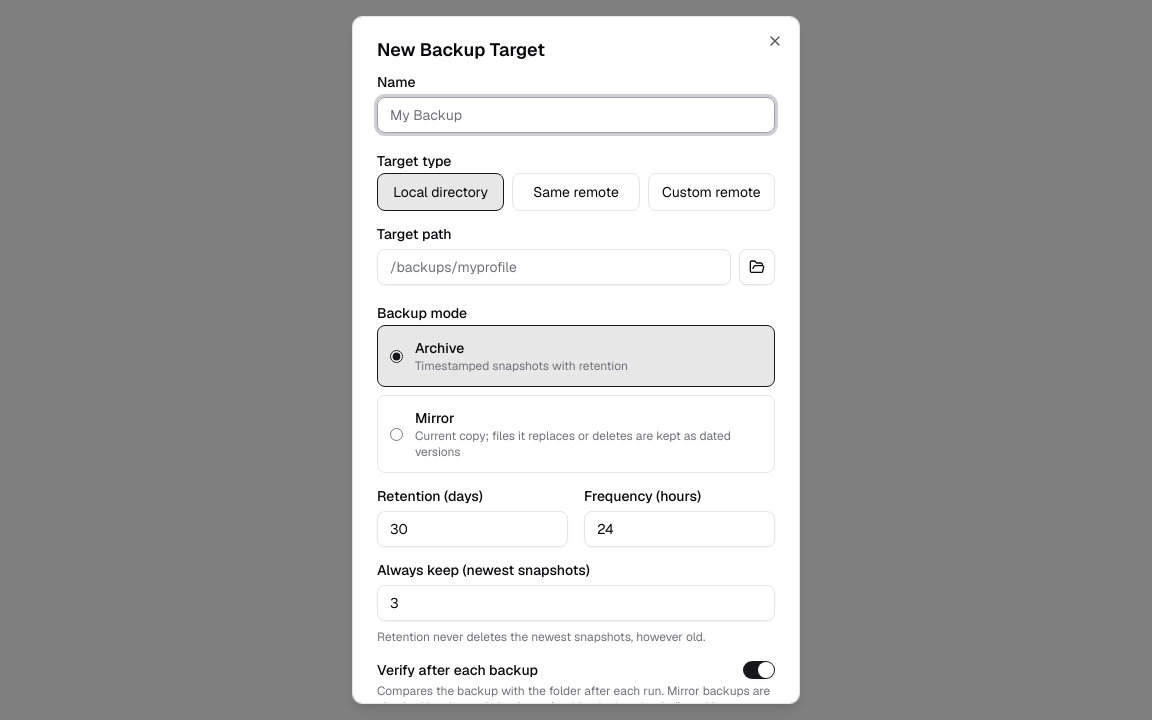
BackupTargetForm folder browser › custom remote targets browse the chosen remote and fill the picked folder
Step 1. Click the radio button labelled "Custom remote" → (711, 192), box [648,173,775,211]
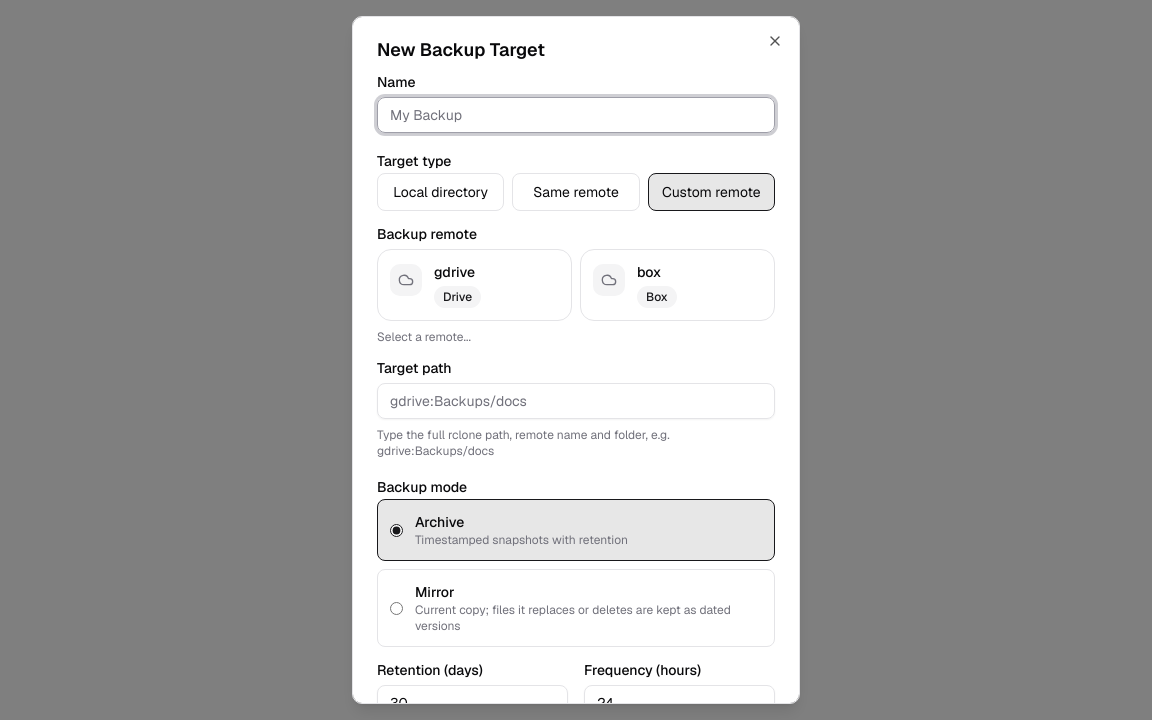
Step 2. Click the button "gdrive drive" → (474, 285), box [377,249,572,321]
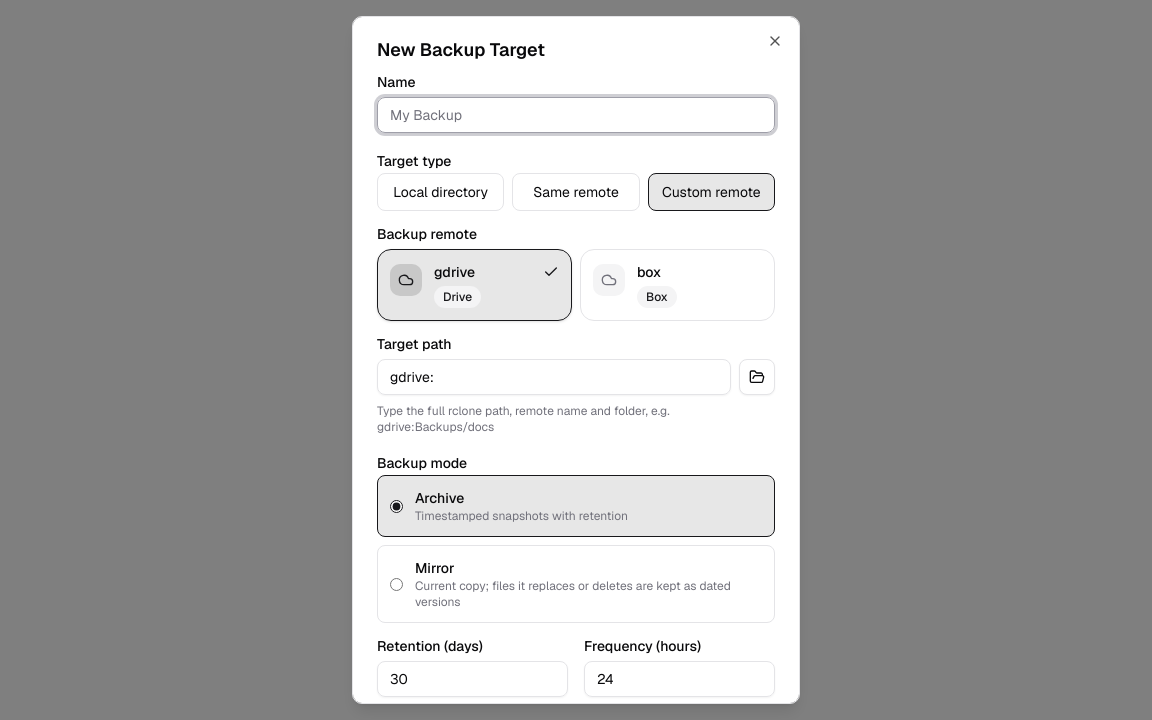
Step 3. Click the button named "Browse for the target folder" → (757, 377), box [739,359,775,395]
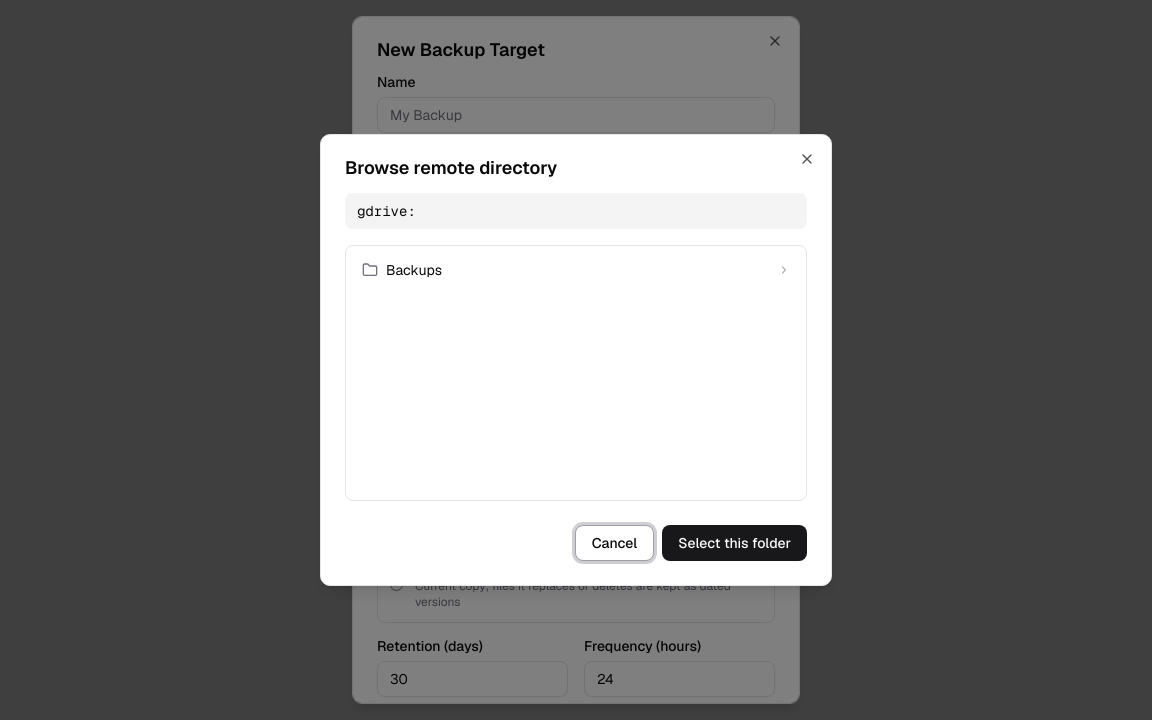
Step 4. Click the button "Backups" → (414, 270), box [354,254,798,286]
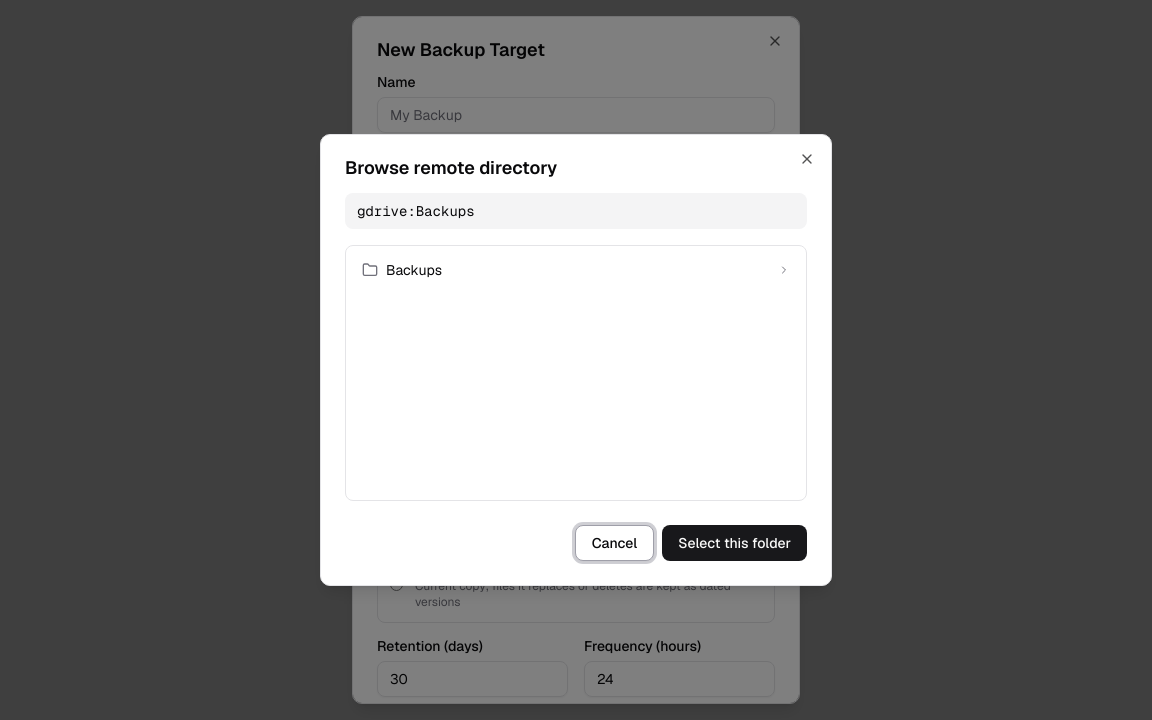
Step 5. Click the button "Select this folder" → (735, 543), box [662,525,807,561]
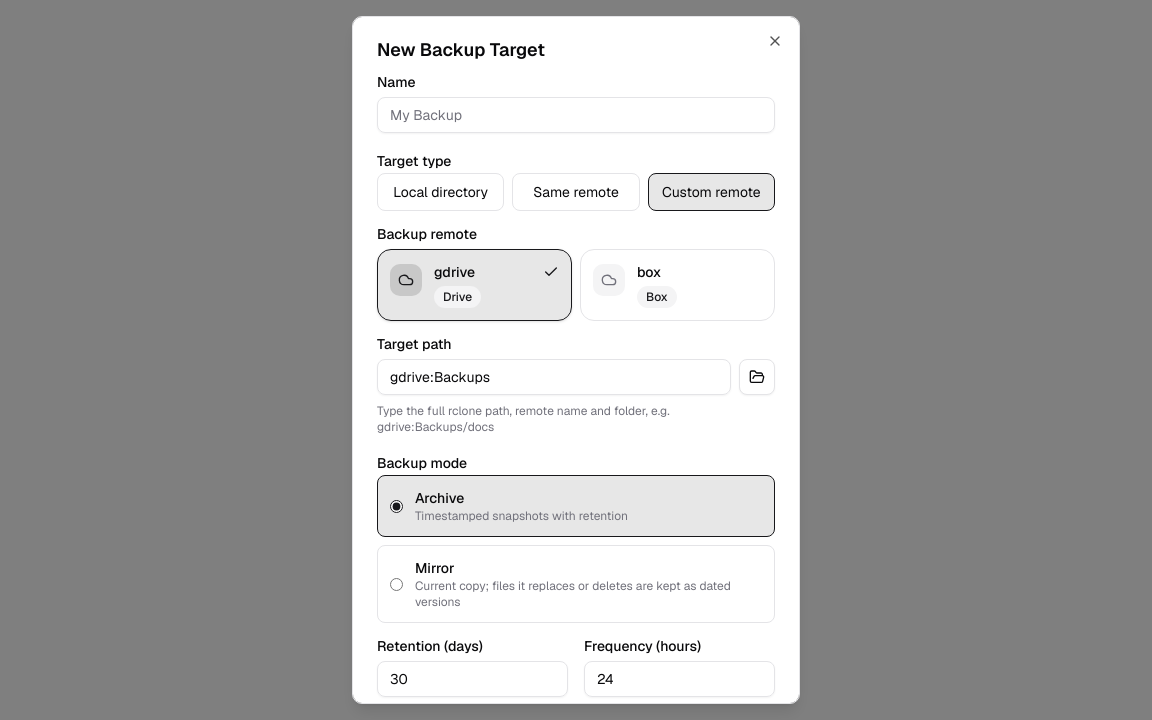
Expected: the field labelled "Target path" holds "gdrive:Backups", [377,359,731,395]
